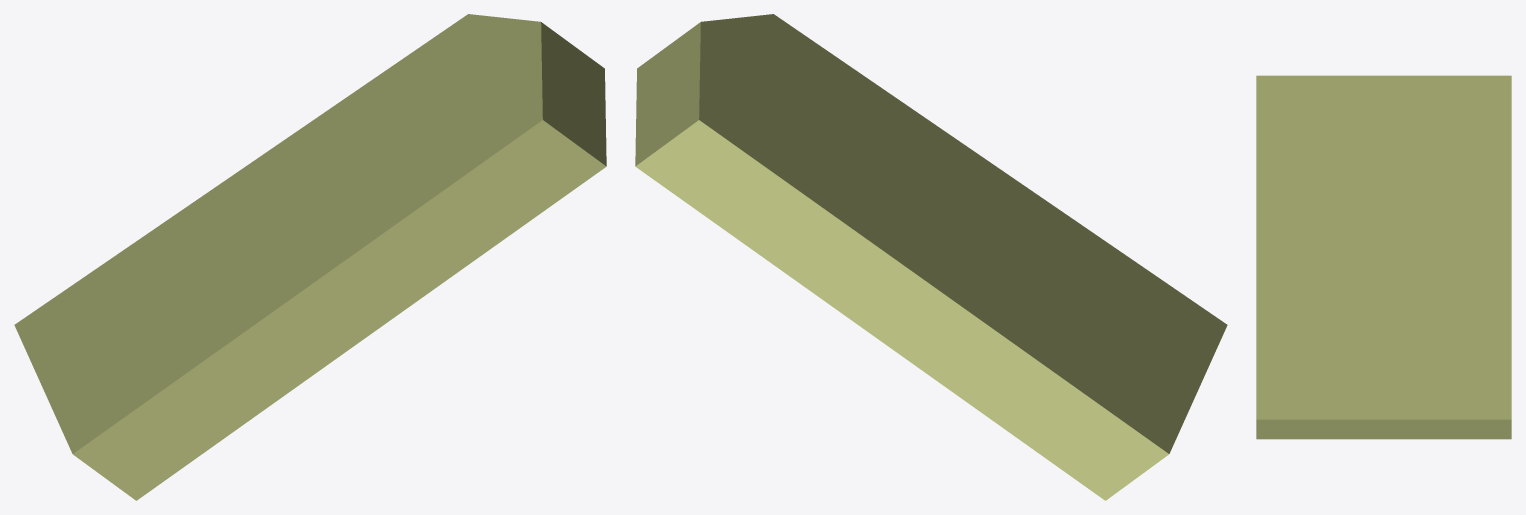
3 renders of one model, left to right at view 1: azimuth 30°, elevation 25°; view 2: azimuth 150°, elevation 25°; view 3: azimuth 270°, elevation 25°, orthographic. The views are drawn at different scales.
Visible parts, largest first — view 1: 0_1_0_2_0_1_3_2; view 2: 0_1_0_2_0_1_3_2; view 3: 0_1_0_2_0_1_3_2.
Boxes of the visible parts, x1,y1,x2,y2 form: 0_1_0_2_0_1_3_2: (14, 14, 606, 500); 0_1_0_2_0_1_3_2: (635, 14, 1227, 500); 0_1_0_2_0_1_3_2: (1256, 75, 1511, 439).
Bounding box in the file's own units: 43.04 × 26.75 × 9.
